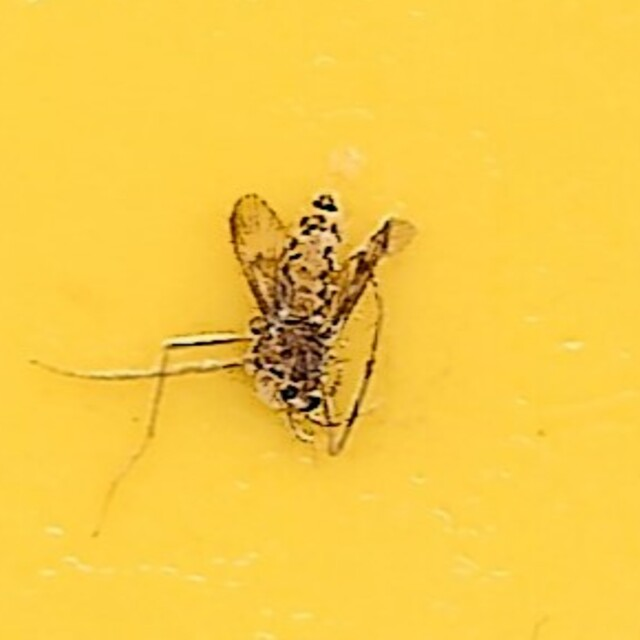Nematocera: (221, 184, 419, 456)
